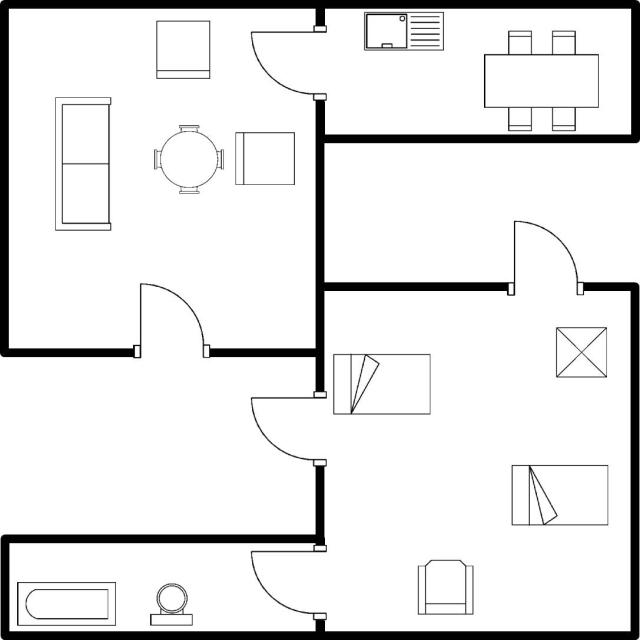armchair: (409, 552, 478, 618)
bed: (504, 457, 616, 530), (330, 349, 436, 420)
coffee_table: (550, 321, 613, 382)
dining_table: (478, 24, 603, 136)
large_sink: (143, 579, 199, 627)
large_sofa: (48, 92, 116, 237)
round_table: (148, 120, 228, 202)
sink: (358, 8, 453, 58)
small_sofa: (149, 17, 219, 83), (230, 128, 300, 189)
tub: (13, 578, 121, 628)
